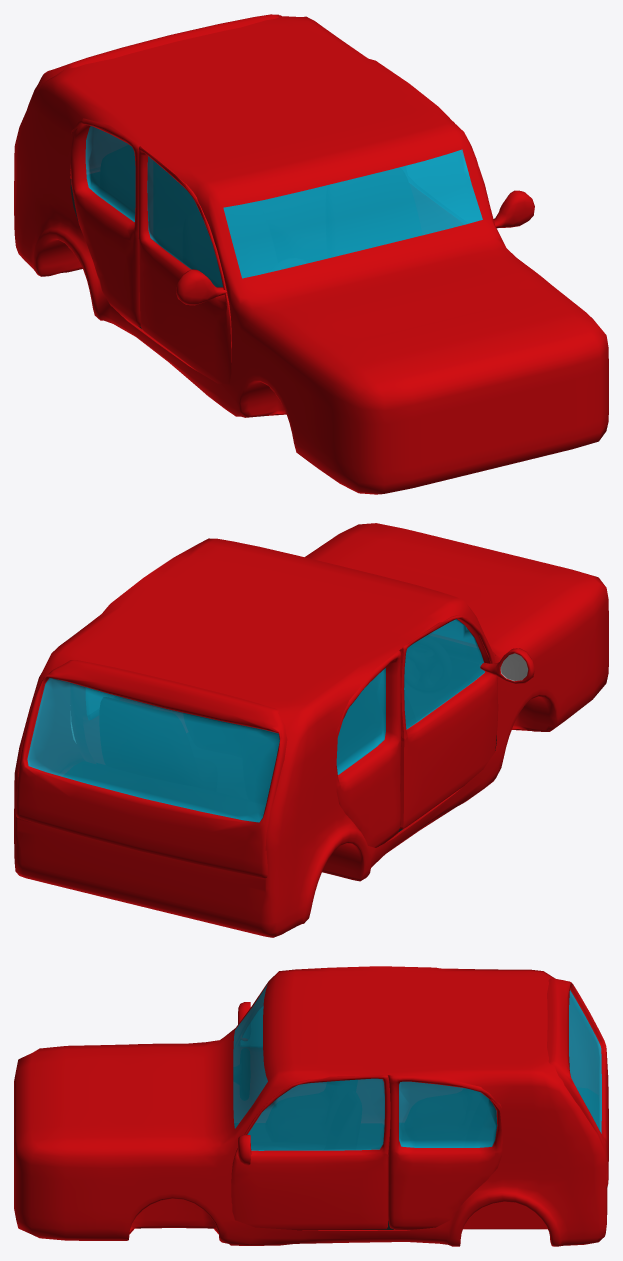
3 renders of one model, top to bottom at view 1: azimuth 30°, elevation 25°; view 2: azimuth 150°, elevation 25°; view 3: azimuth 270°, elevation 25°, orthographic. The views are drawn at different scales.
Parts seen in each view (by area): view 1: 車体, ドア前, ドア後ろ, シート前, シート後ろ, バックドア, ミラー; view 2: 車体, バックドア, ドア前, ドア後ろ, シート後ろ, 車体内装, シート前, ハンドル, ミラー; view 3: 車体, ドア前, ドア後ろ, バックドア, シート前, シート後ろ, 車体内装, ハンドル, ミラー.
Boxes of the visible parts, <box> form: 車体: <box>14,16,608,494</box>; ドア前: <box>138,121,488,383</box>; ドア後ろ: <box>70,118,152,326</box>; シート前: <box>183,168,421,286</box>; シート後ろ: <box>100,145,326,262</box>; バックドア: <box>27,14,281,178</box>; ミラー: <box>176,190,534,305</box>; 車体: <box>14,523,608,937</box>; バックドア: <box>15,660,287,878</box>; ドア前: <box>154,615,498,828</box>; ドア後ろ: <box>71,650,401,847</box>; シート後ろ: <box>100,697,278,804</box>; 車体内装: <box>63,636,496,832</box>; シート前: <box>184,682,416,773</box>; ハンドル: <box>405,637,451,692</box>; ミラー: <box>480,648,534,683</box>; 車体: <box>14,966,607,1246</box>; ドア前: <box>231,999,390,1230</box>; ドア後ろ: <box>388,1075,502,1229</box>; バックドア: <box>547,978,608,1188</box>; シート前: <box>266,1080,361,1149</box>; シート後ろ: <box>405,1088,496,1147</box>; 車体内装: <box>235,1088,599,1229</box>; ハンドル: <box>234,1048,249,1099</box>; ミラー: <box>238,1002,251,1165</box>.
Size of the model in its own units: 2.41 by 1.35 by 4.15.
